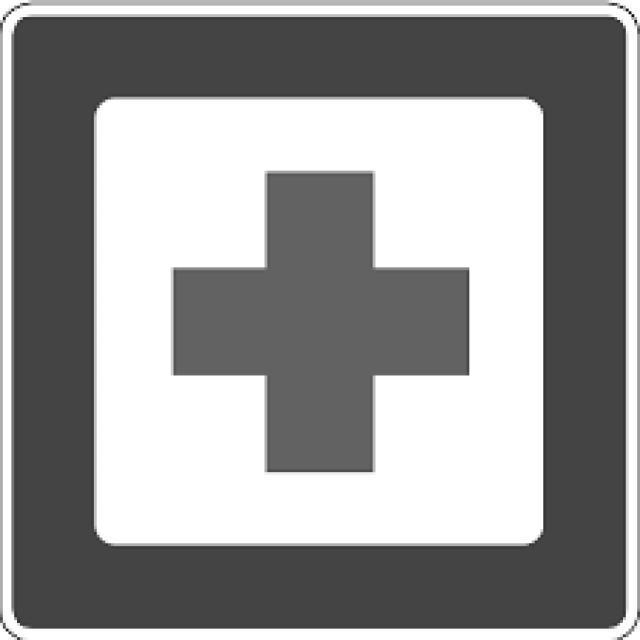hospital ahead: (90, 94, 545, 547)
